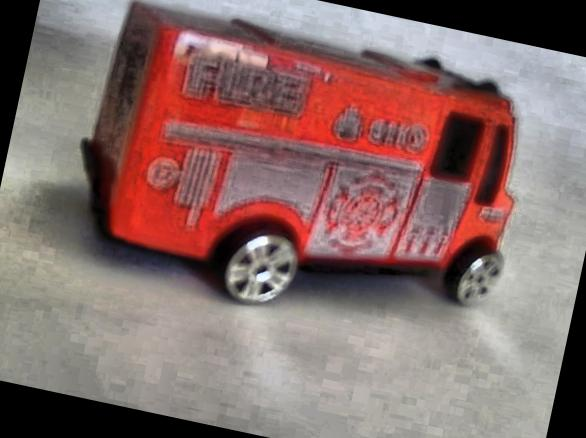fire_truck: (62, 0, 538, 346)
